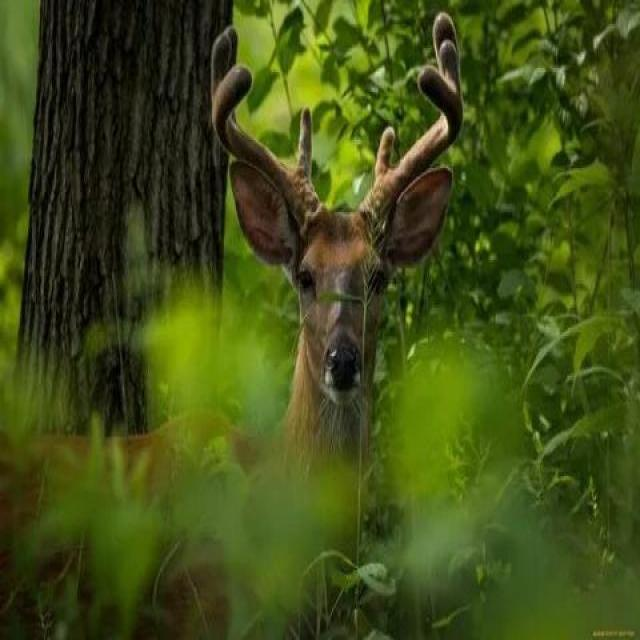deer: (168, 29, 530, 534)
